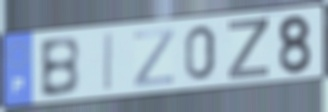0: (182, 23, 220, 83)
8: (276, 13, 315, 76)
B: (37, 34, 82, 100)
I: (102, 30, 116, 94)
Z: (226, 16, 271, 82), (132, 26, 177, 90)
